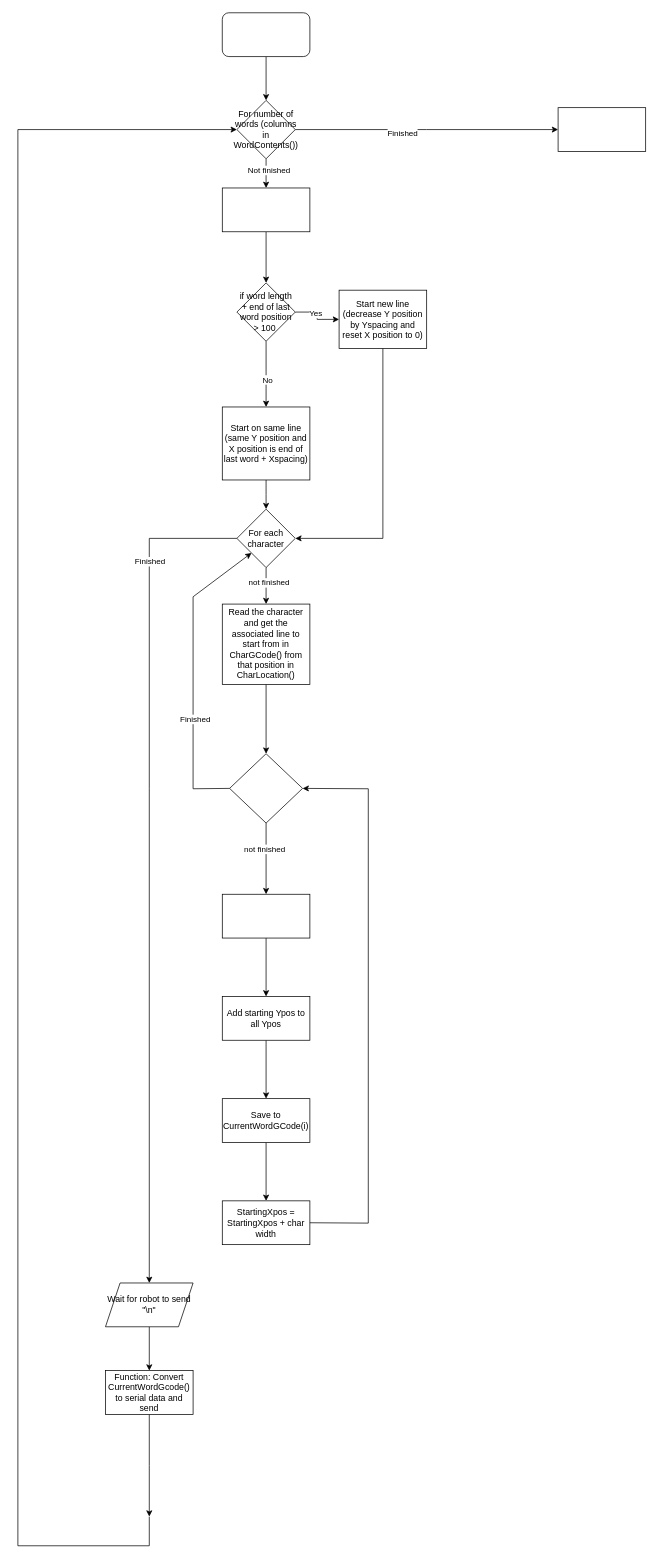
This 658x1564 diagram has some shape labels left out. The shapes that lost their labels are listed below. From the top down, each one's centre as x and y in pixels, then its label:
At pixel 266 34: "Function: WordToGCodeAndSend".
At pixel 601 129: "return".
At pixel 266 209: "Find length of word (number of chars * word spacing) and number of chars".
At pixel 266 788: "for each GCode line for the Char in CharGCode (i)".
At pixel 266 916: "Add StartingXpos to all Xpos".
